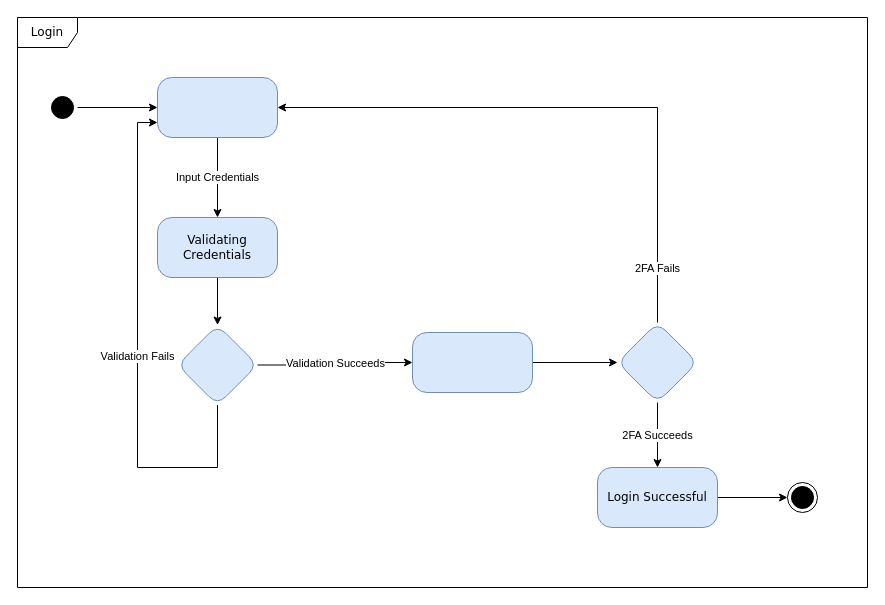
Image size: 885x605. Some labels were removed from this diagram. Each missing label, with the box of its shape:
Idle: (156, 76, 278, 138)
Two Factor Authentication: (412, 332, 532, 392)
